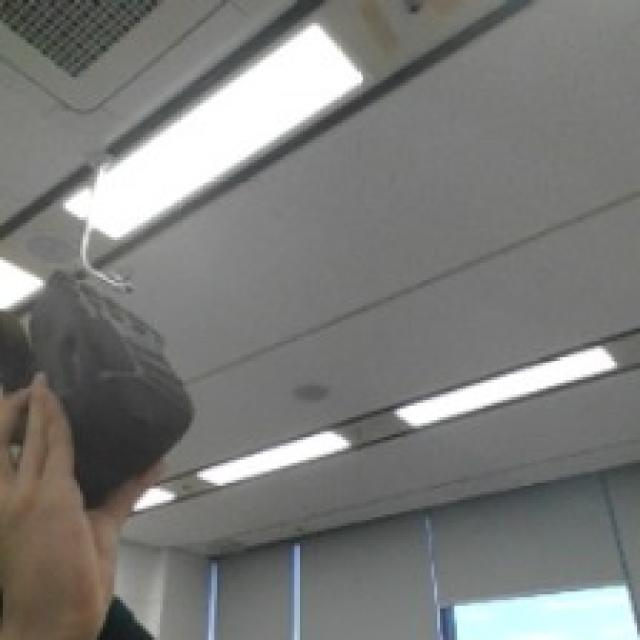shoe: (0, 212, 223, 523)
